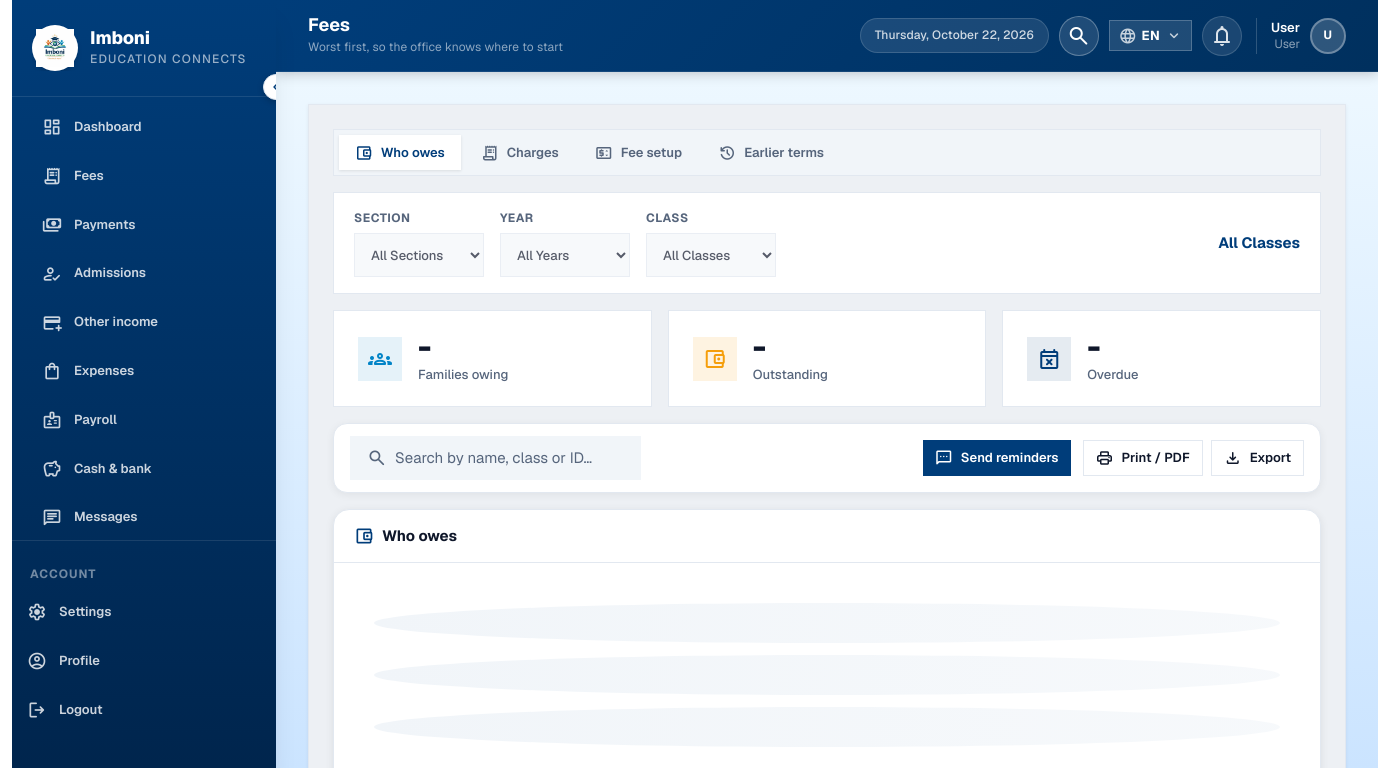
Scenario: FinanceFeesHub › opens on who owes and switches to the fee setup
The image size is (1378, 768).
What coordinates should you click on to do the following:
click the tab "Fee setup"
I would click on:
 (638, 153)
Its box is top-left (579, 135), bottom-right (698, 170).
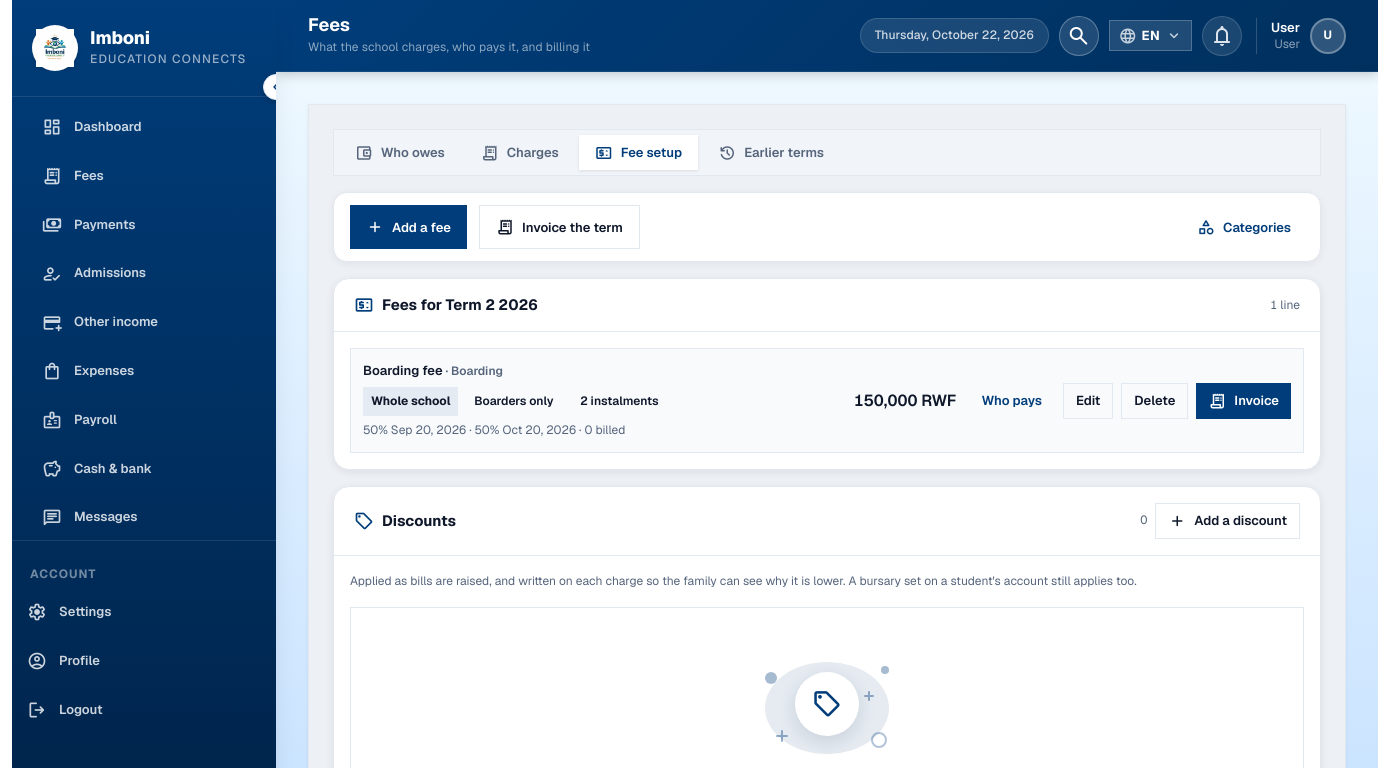
expect the text "Boarding fee" is shown: met, box top-left (363, 362), bottom-right (443, 379)
expect the text "Boarders only" is shown: met, box top-left (474, 393), bottom-right (554, 409)
expect the text "2 instalments" is shown: met, box top-left (580, 393), bottom-right (659, 409)
